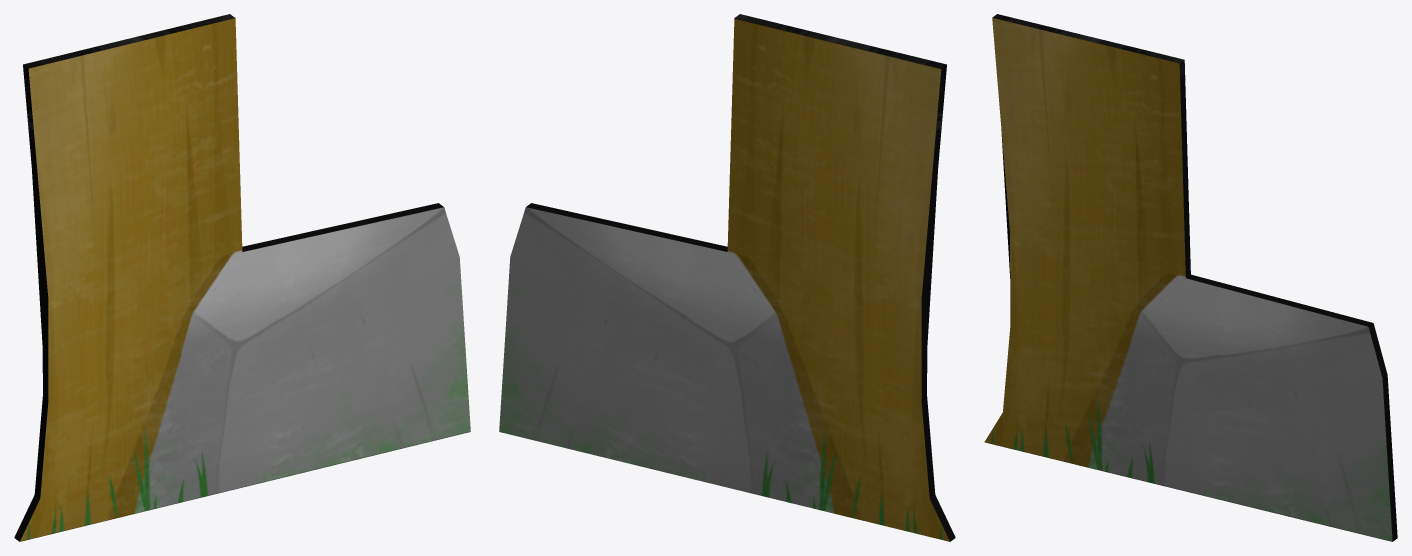
Rendered from kaidann.FBX.
The picture shows the model from 3 angles, left to right: view 1: azimuth 30°, elevation 25°; view 2: azimuth 150°, elevation 25°; view 3: azimuth 330°, elevation 25°; orthographic projection. The views are drawn at different scales.
Parts seen in each view (by area): view 1: Line002; view 2: Line002; view 3: Line002.
Part boxes in pixels (x1,y1,x2,y2): Line002: [14, 14, 470, 541]; Line002: [499, 14, 955, 541]; Line002: [984, 14, 1397, 541].
Bounding box in the file's own units: 78.88 × 78.74 × 1.7.
1 material, 1 textured.
